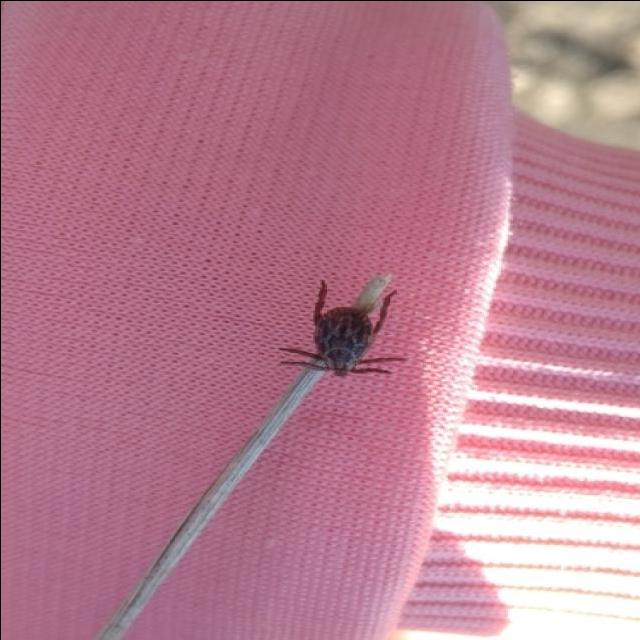Dermacentor Reticulatus-M: (278, 279, 404, 376)
